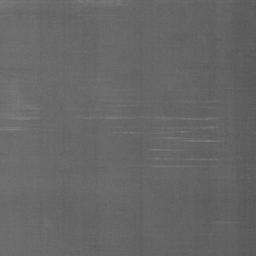Waist folding: (79, 114, 221, 144), (130, 156, 222, 169), (31, 0, 128, 8), (185, 99, 218, 107), (0, 116, 39, 122), (0, 126, 20, 133), (215, 219, 238, 225), (176, 2, 232, 4), (149, 147, 169, 152), (122, 130, 137, 135)
